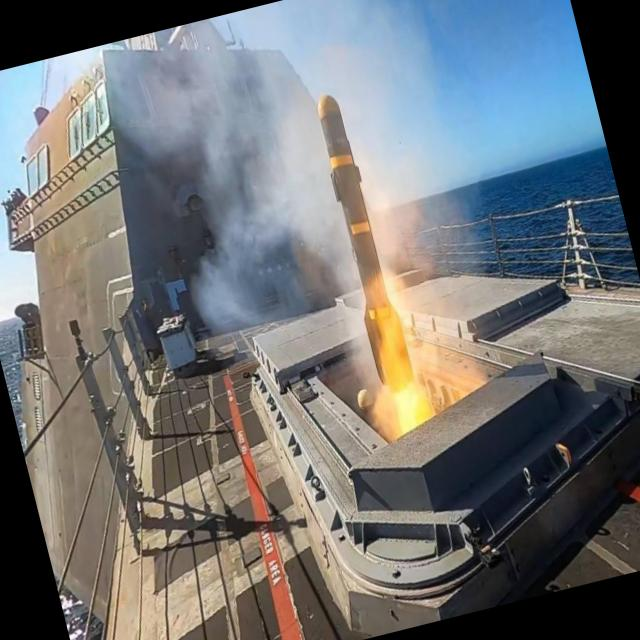rocket: (296, 83, 432, 410)
